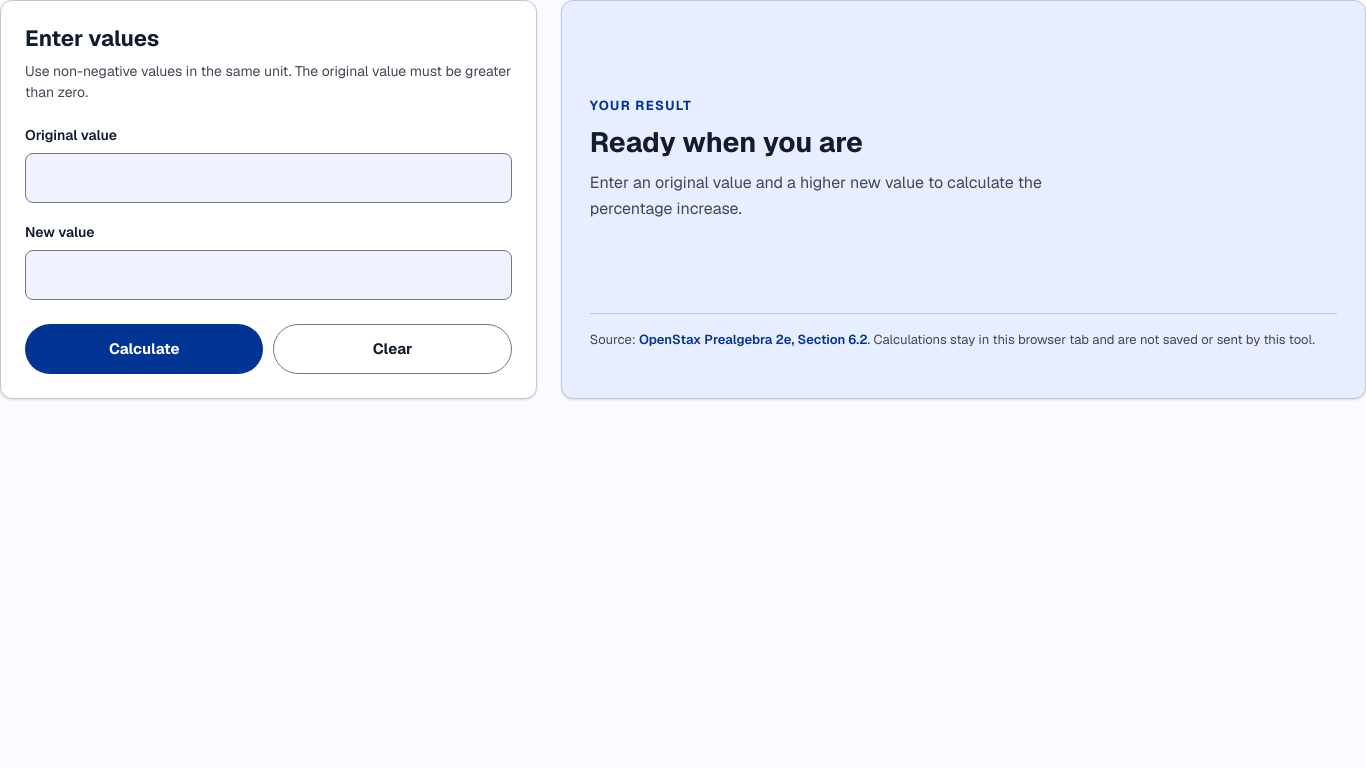
it: percentage family shared workspace › submits increase with Enter, clears stale results on edit, and resets
Type "100" into the number field labelled "Original value" at (268, 178), box [25,153,512,203]
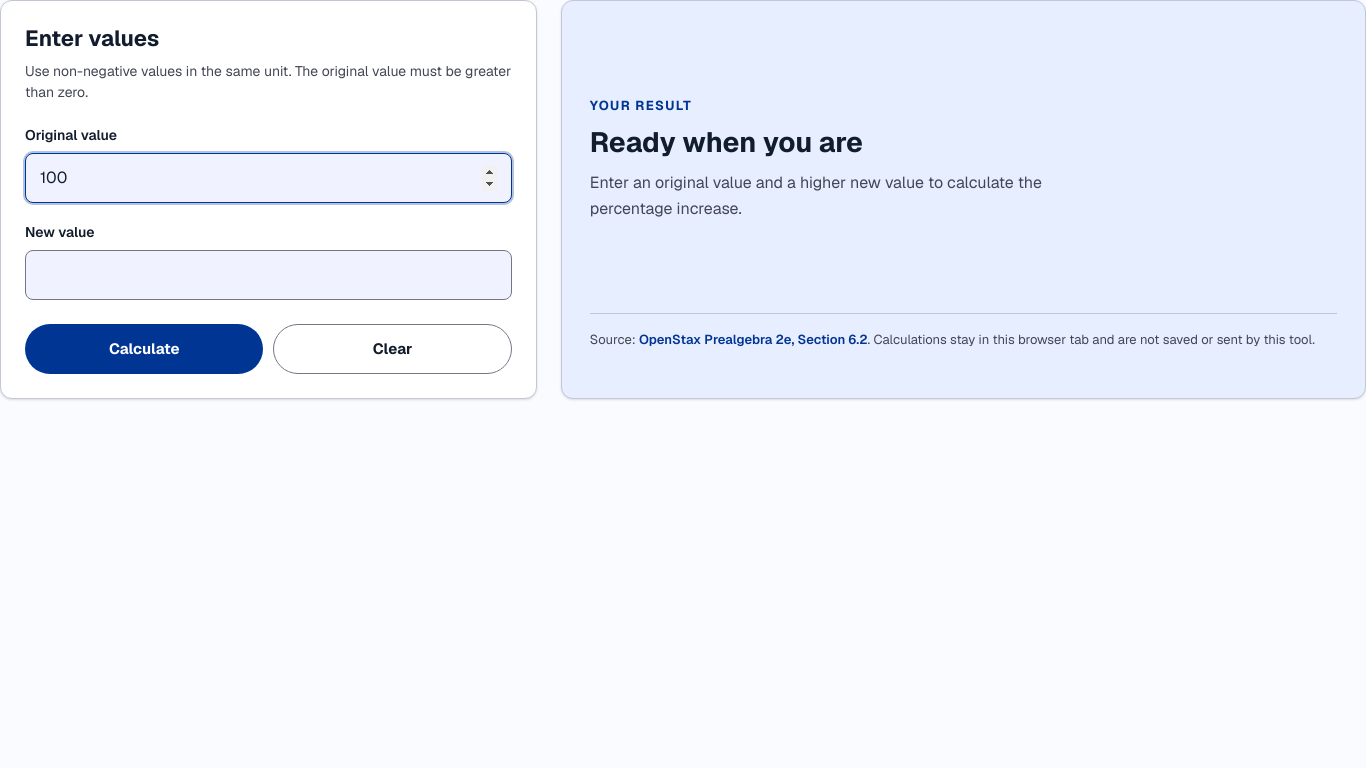
Type "125" into the number field labelled "New value" at (268, 275), box [25,250,512,300]
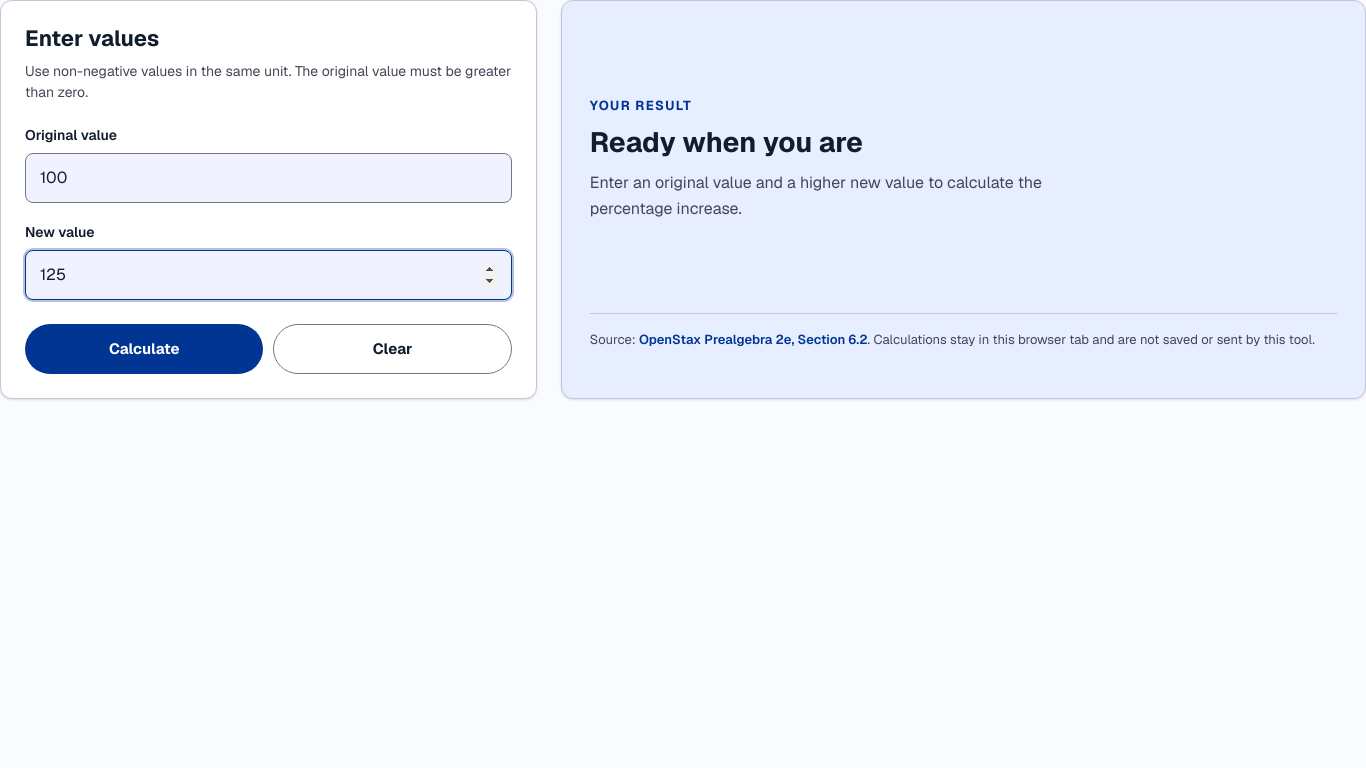
Press Enter
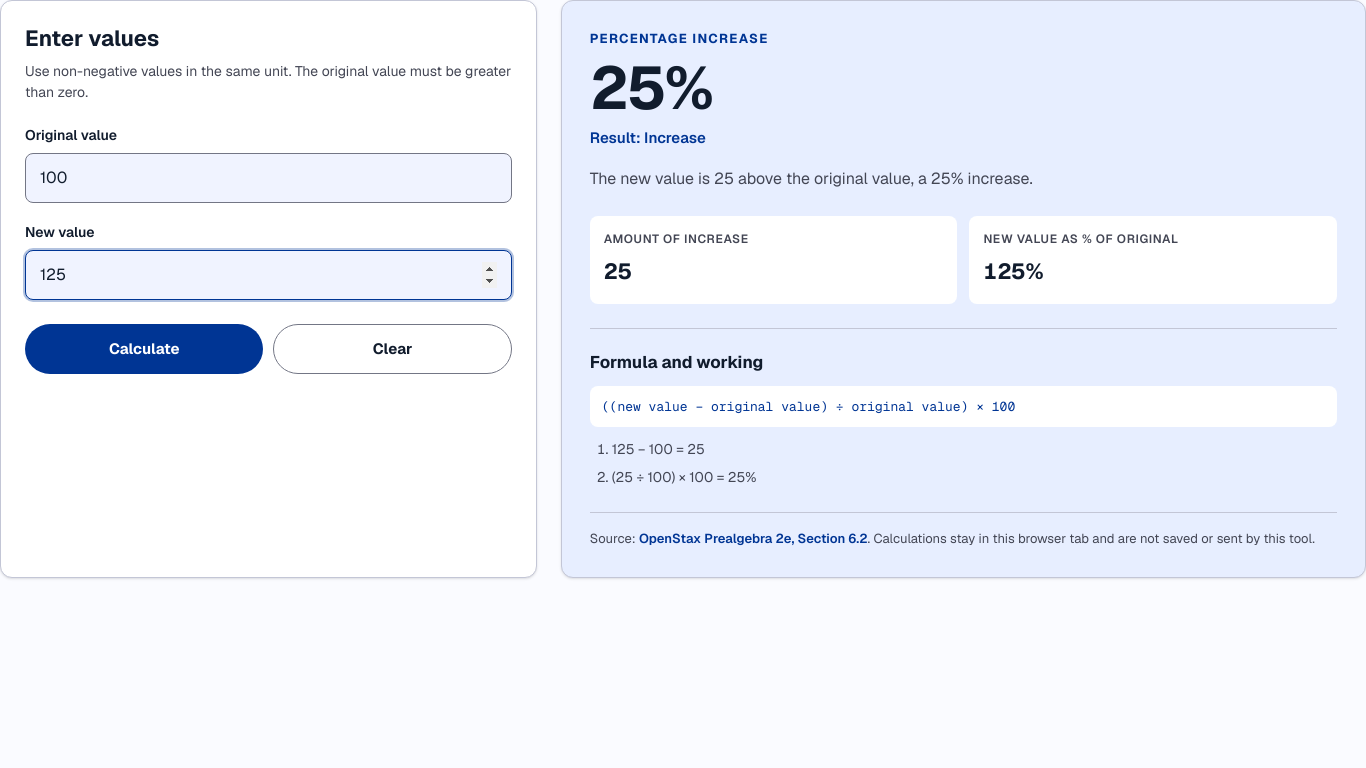
Expected: the text "Source:" is shown, [590,530,639,547]
Now the heading "Ready when you are" is gone
Type "0" into the number field labelled "New value" at (268, 275), box [25,250,512,300]
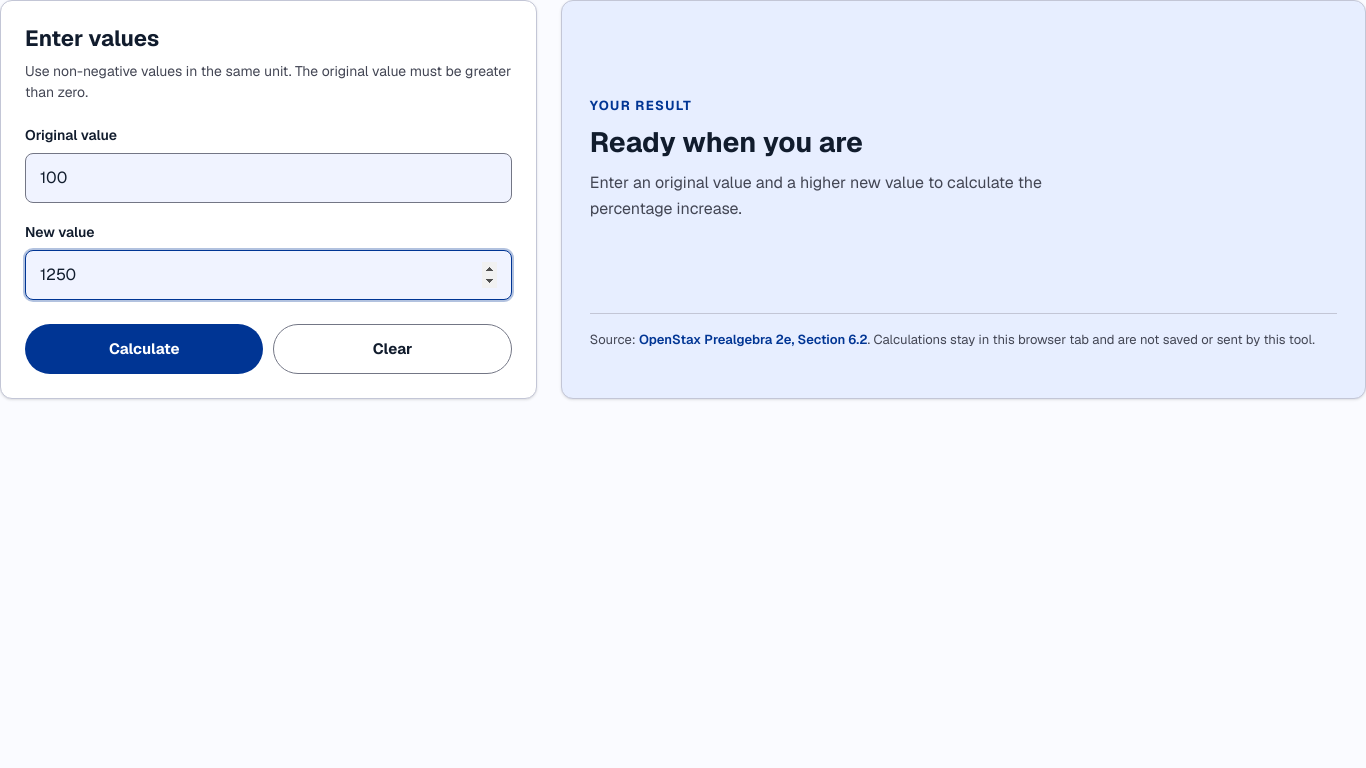
Now the heading "Ready when you are" is shown, box [590,124,863,160]
Click the button "Clear" at (393, 349), box [273,324,512,374]
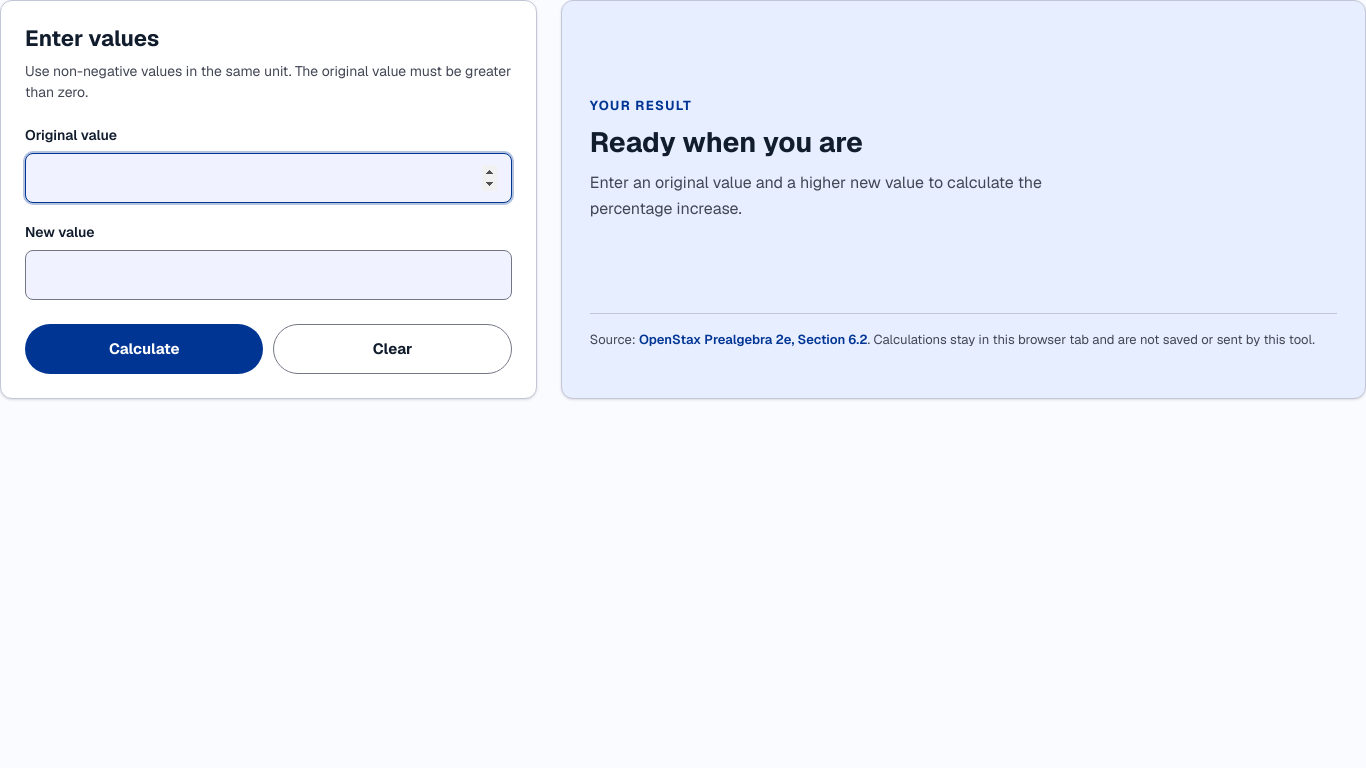
Now the number field labelled "Original value" is not empty, box [25,153,512,203]
Now the number field labelled "New value" is not empty, box [25,250,512,300]
